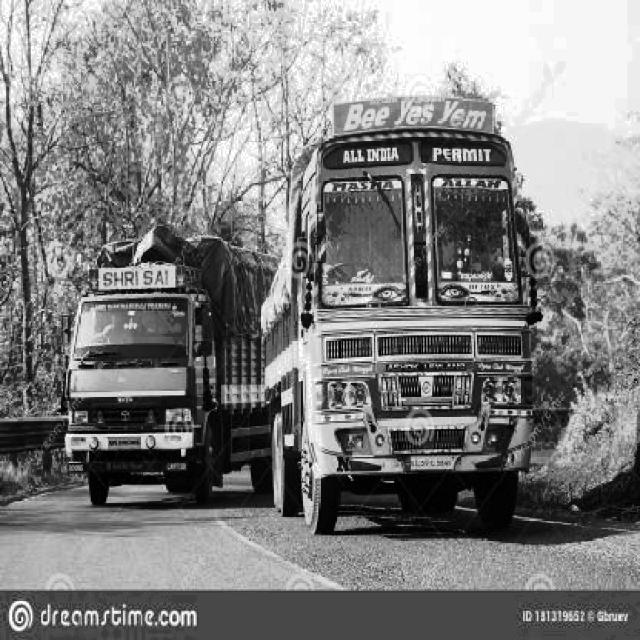HCV: (257, 49, 529, 544), (75, 231, 280, 513)
